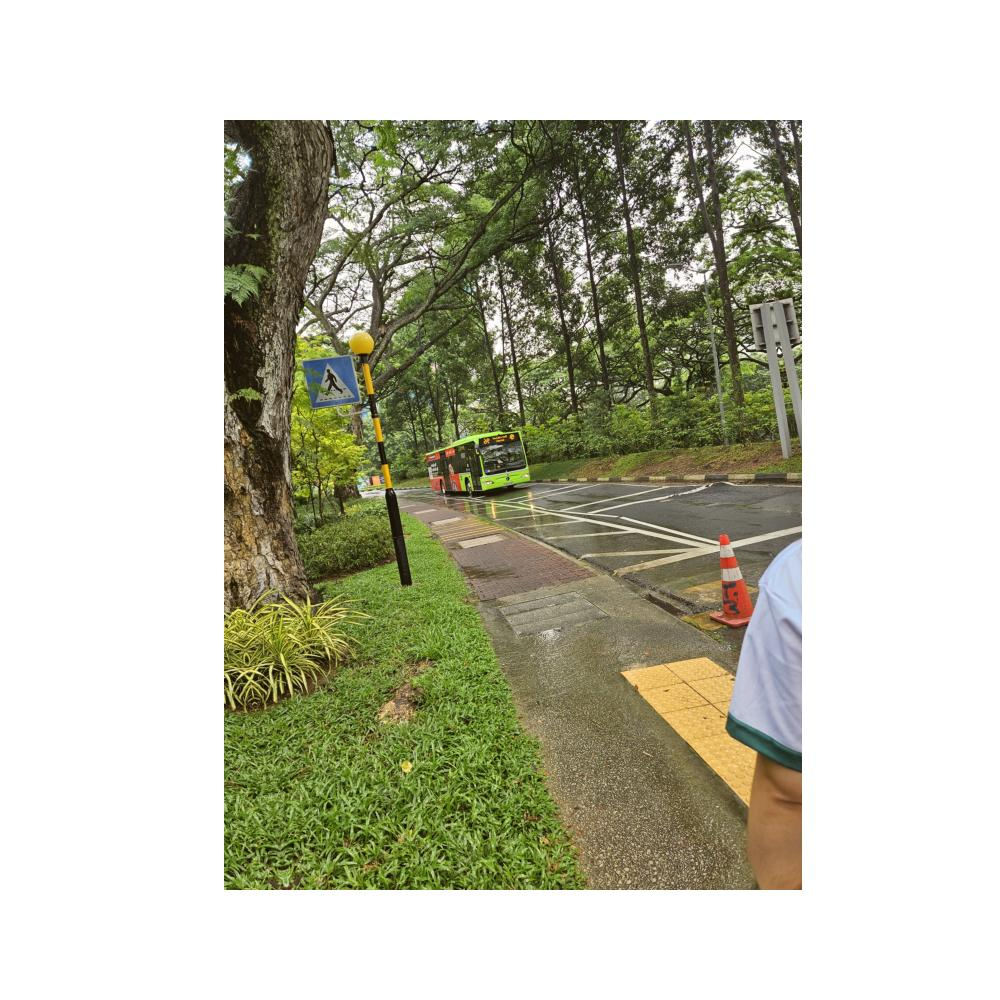bus: (419, 427, 534, 500)
